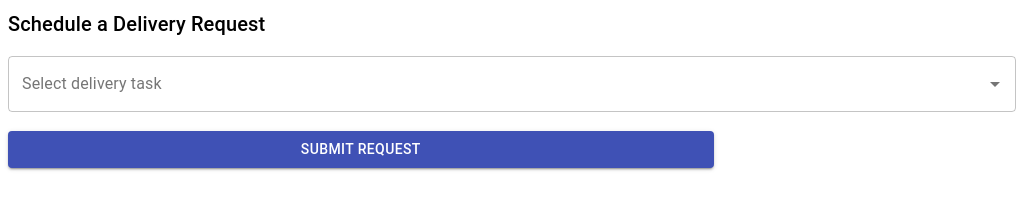
Delivery Form › should render error messages when invalid form is submitted
Click the button "Submit Request" at (361, 149), box [8, 131, 714, 168]
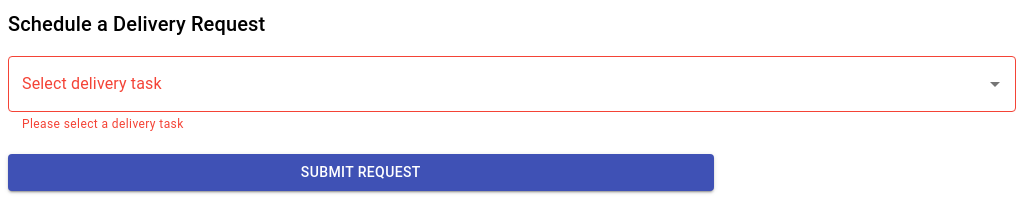
Now the text "Please select a delivery task" is shown, box [22, 117, 184, 131]
